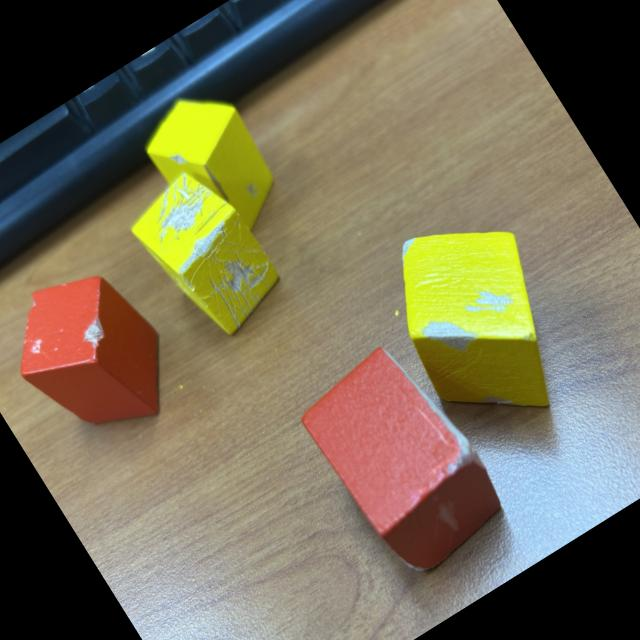broken: (358, 189, 602, 453), (289, 332, 518, 586), (0, 245, 196, 465), (119, 157, 294, 351), (129, 74, 296, 257)
